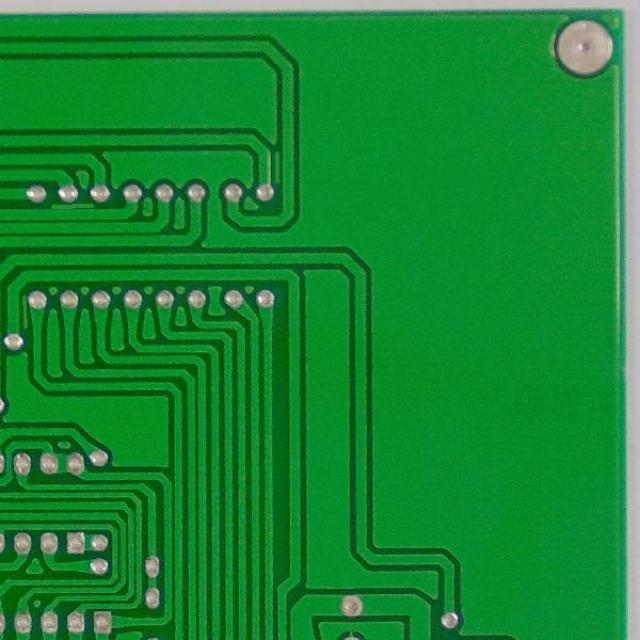Spurious_Cooper: (45, 200, 97, 210), (18, 292, 31, 330), (272, 147, 284, 188)
